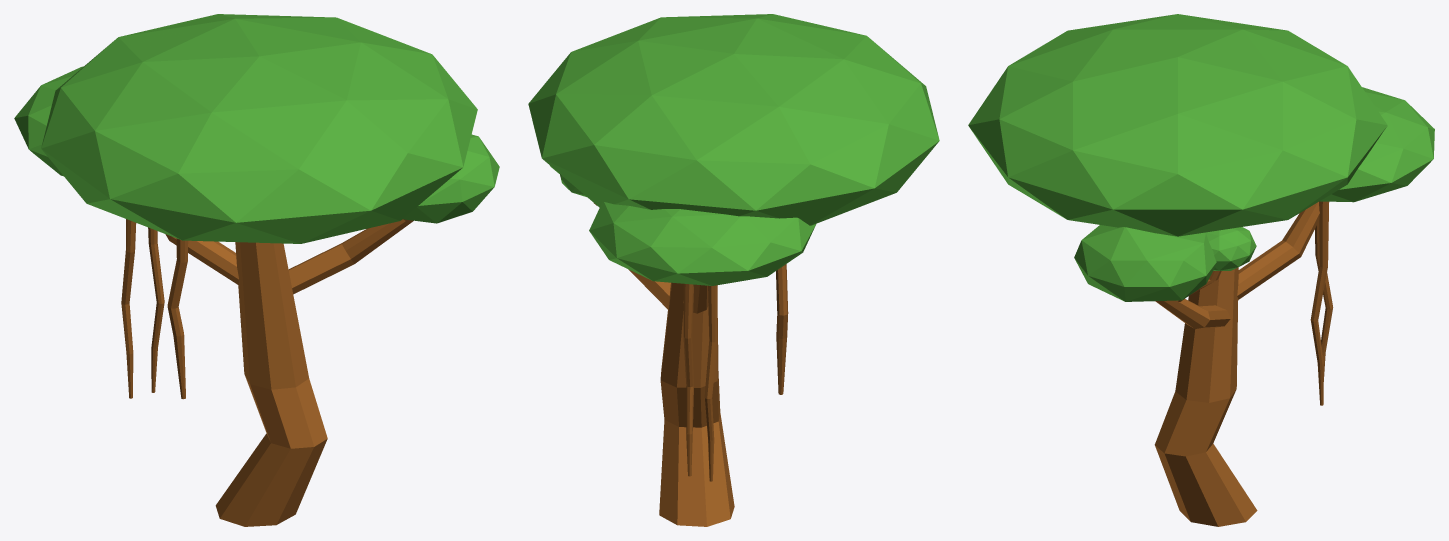
Rendered from ENVI_LV2-3_pohon_Tinggi_001.fbx.
3 views of the same model, side by side, from view 1: azimuth 30°, elevation 25°; view 2: azimuth 150°, elevation 25°; view 3: azimuth 270°, elevation 25° (orthographic). The views are drawn at different scales.
Visible parts, largest first — view 1: pohon Tinggi.001; view 2: pohon Tinggi.001; view 3: pohon Tinggi.001.
Part boxes in pixels (<box>): pohon Tinggi.001: <box>14,14,499,526</box>; pohon Tinggi.001: <box>528,14,939,526</box>; pohon Tinggi.001: <box>968,14,1434,526</box>.
Bounding box in the file's own units: 641 × 733 × 696.
